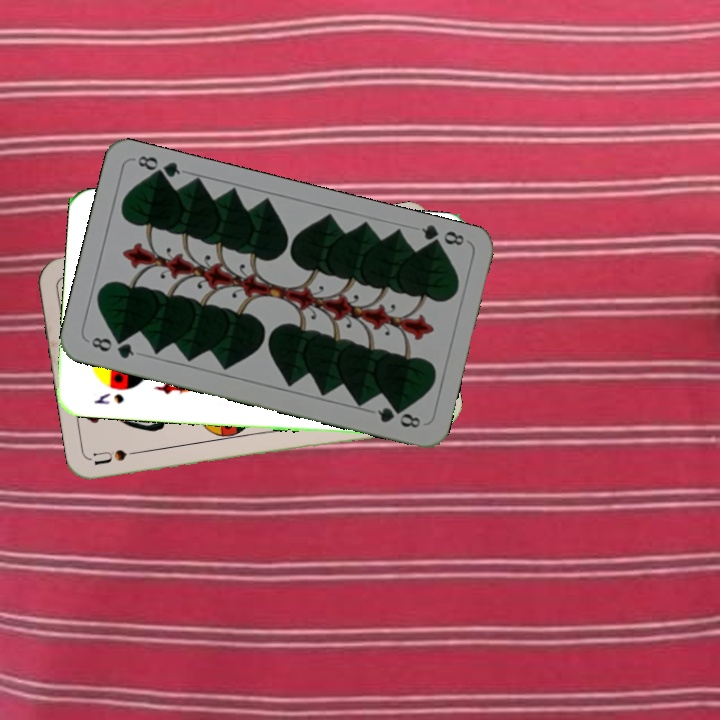G8: (417, 221, 467, 253), (84, 333, 137, 362)
SK: (89, 389, 127, 407)
SU: (90, 445, 150, 468)
